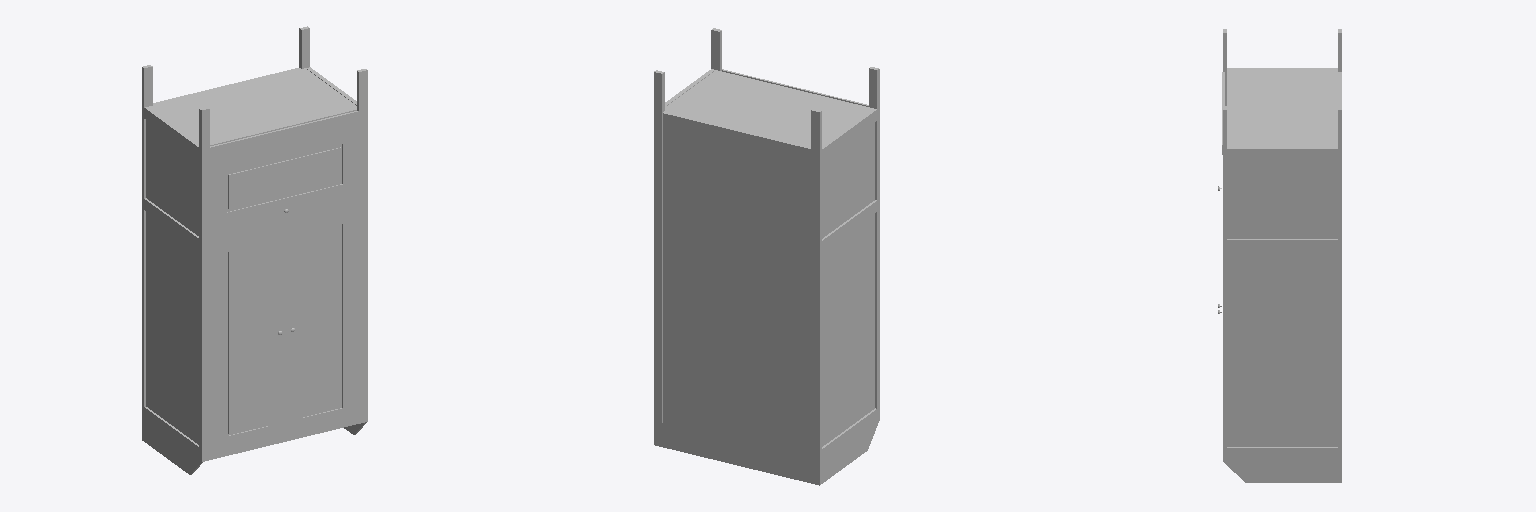
File: StorageFurniture_SundvikWardrobeWhite.obj
The picture shows the model from 3 angles: view 1: azimuth 30°, elevation 25°; view 2: azimuth 150°, elevation 25°; view 3: azimuth 270°, elevation 25°; orthographic projection.
Visible parts, largest first — view 1: obj_0; view 2: obj_0; view 3: obj_0.
Boxes of the visible parts, x1=… form: obj_0: x1=142, y1=26, x2=367, y2=474; obj_0: x1=654, y1=28, x2=879, y2=485; obj_0: x1=1218, y1=29, x2=1341, y2=482.
Bounding box in the file's own units: 80 × 172 × 52.